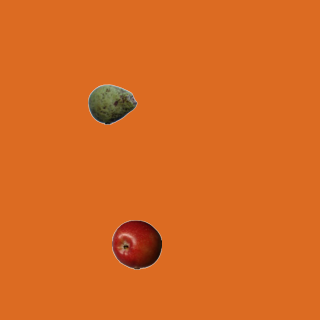Apple Braeburn: (111, 219, 161, 269)
Pear Stone: (87, 79, 137, 129)
